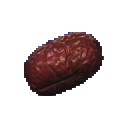ng: (19, 28, 110, 101)
